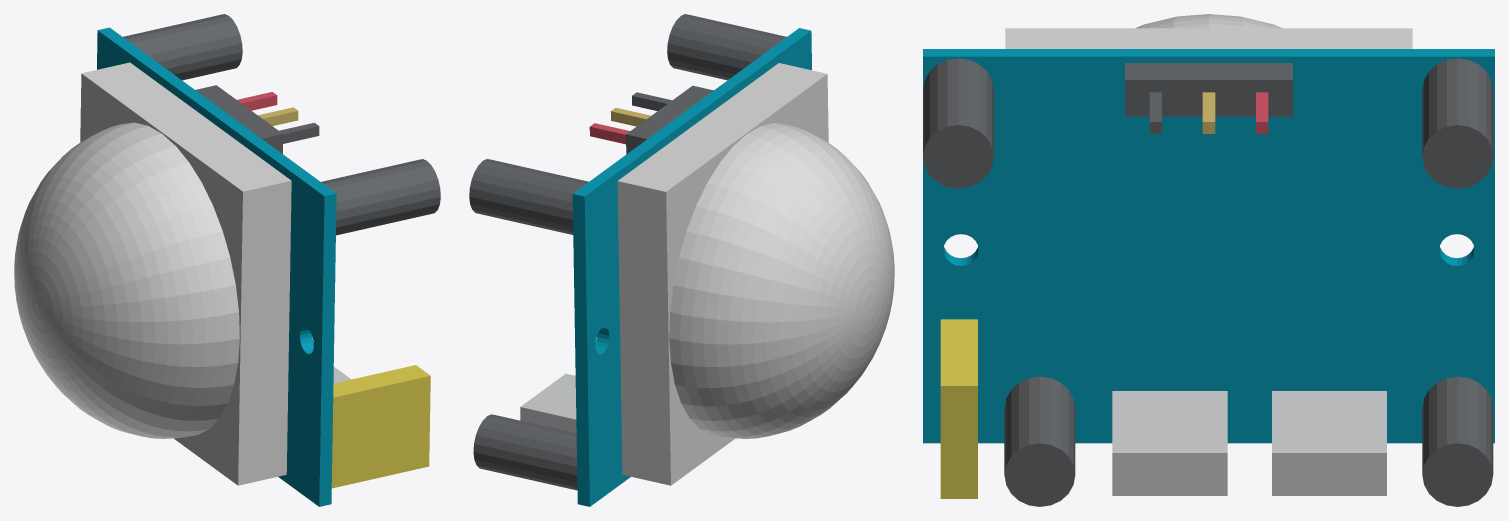
The model's file is capteur.glb.
The picture shows the model from 3 angles, left to right: view 1: azimuth 30°, elevation 25°; view 2: azimuth 150°, elevation 25°; view 3: azimuth 270°, elevation 25°; orthographic projection. The views are drawn at different scales.
Parts seen in each view (by area): view 1: Mesh_Mesh_head_geo.001_lambert2SG.001; view 2: Mesh_Mesh_head_geo.001_lambert2SG.001; view 3: Mesh_Mesh_head_geo.001_lambert2SG.001.
Boxes of the visible parts, x1,y1,x2,y2 form: Mesh_Mesh_head_geo.001_lambert2SG.001: [14, 14, 440, 506]; Mesh_Mesh_head_geo.001_lambert2SG.001: [469, 14, 894, 506]; Mesh_Mesh_head_geo.001_lambert2SG.001: [923, 14, 1494, 506].
Bounding box in the file's own units: 23.81 × 24.31 × 32.3.
